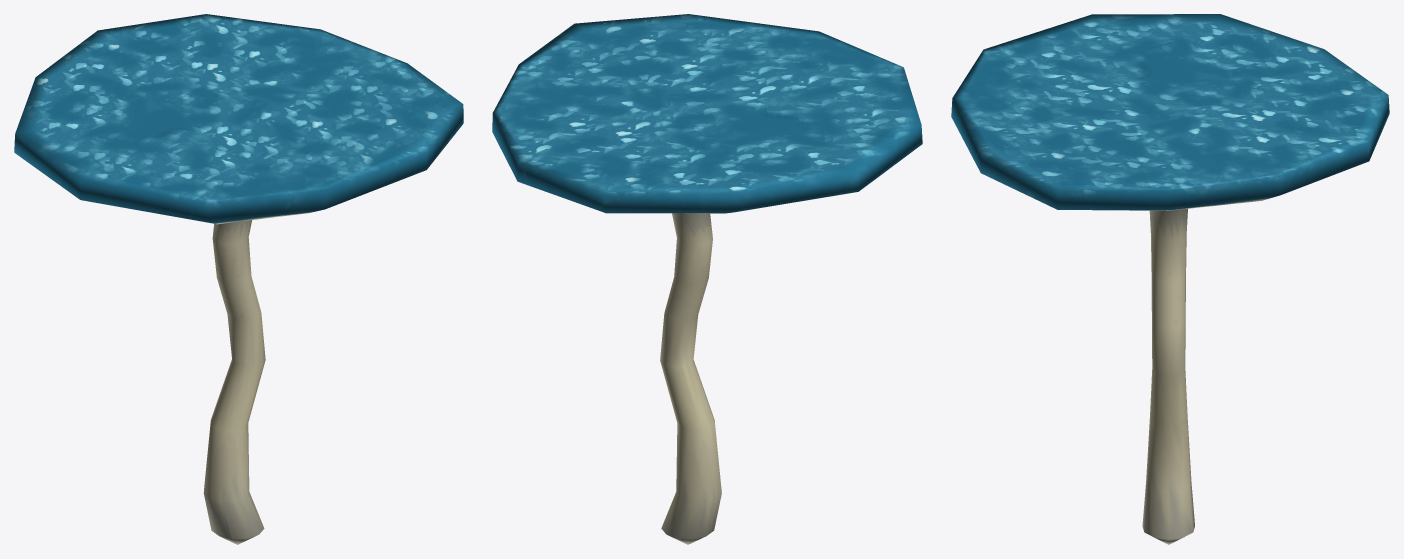
File: Seta plataforma 2 textura.fbx
The picture shows the model from 3 angles, left to right: view 1: azimuth 30°, elevation 25°; view 2: azimuth 150°, elevation 25°; view 3: azimuth 270°, elevation 25°; orthographic projection.
Visible parts, largest first — view 1: Seta_Plataforma_V1; view 2: Seta_Plataforma_V1; view 3: Seta_Plataforma_V1.
Part boxes in pixels (<box>): Seta_Plataforma_V1: <box>14,14,463,544</box>; Seta_Plataforma_V1: <box>492,14,922,544</box>; Seta_Plataforma_V1: <box>951,14,1389,544</box>.
Size of the model in its own units: 136 by 155 by 141.
Materials: 1 (1 with a texture image).
